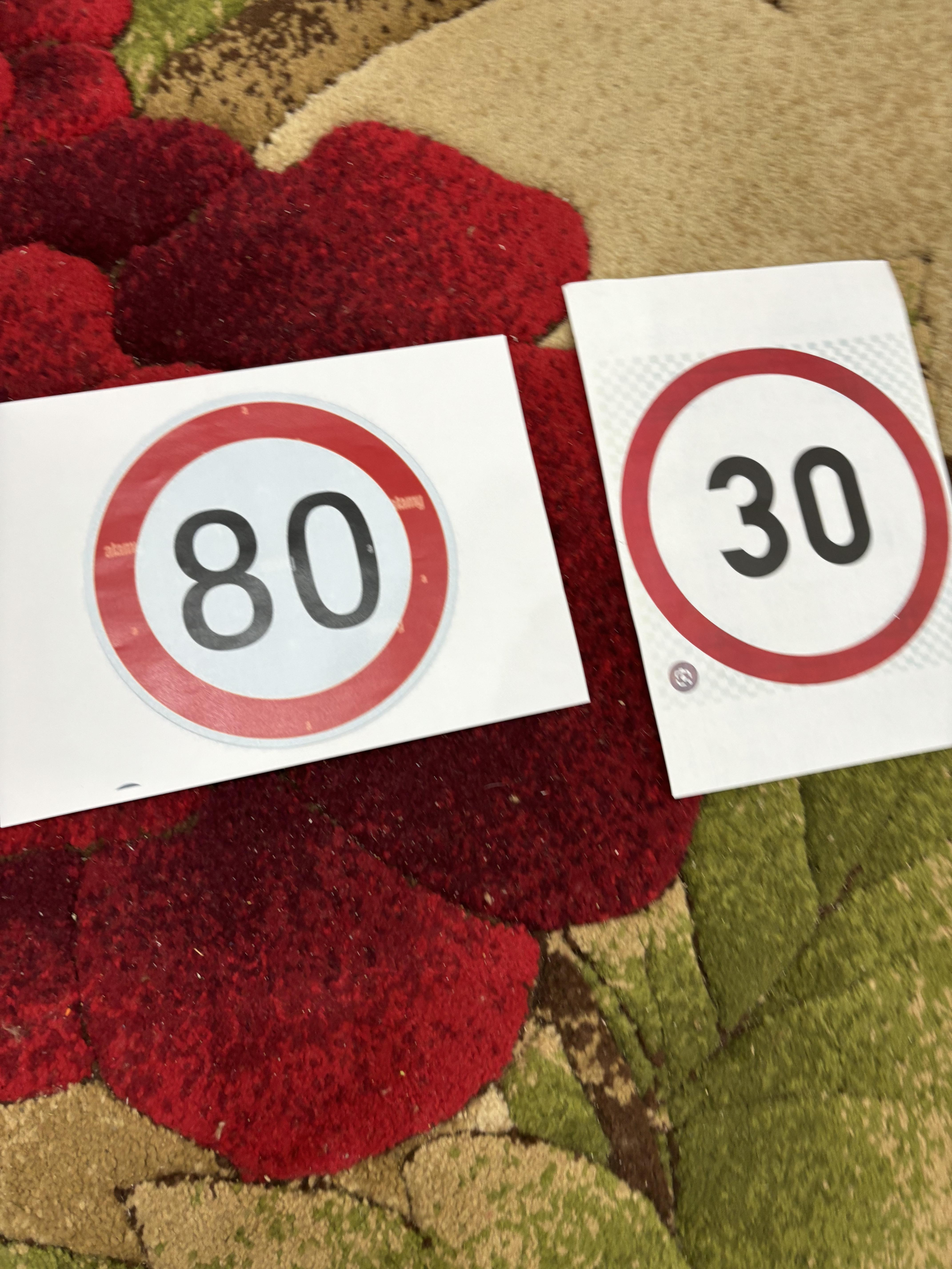30-speed: (605, 336, 952, 668)
80-Speed: (83, 380, 470, 751)
